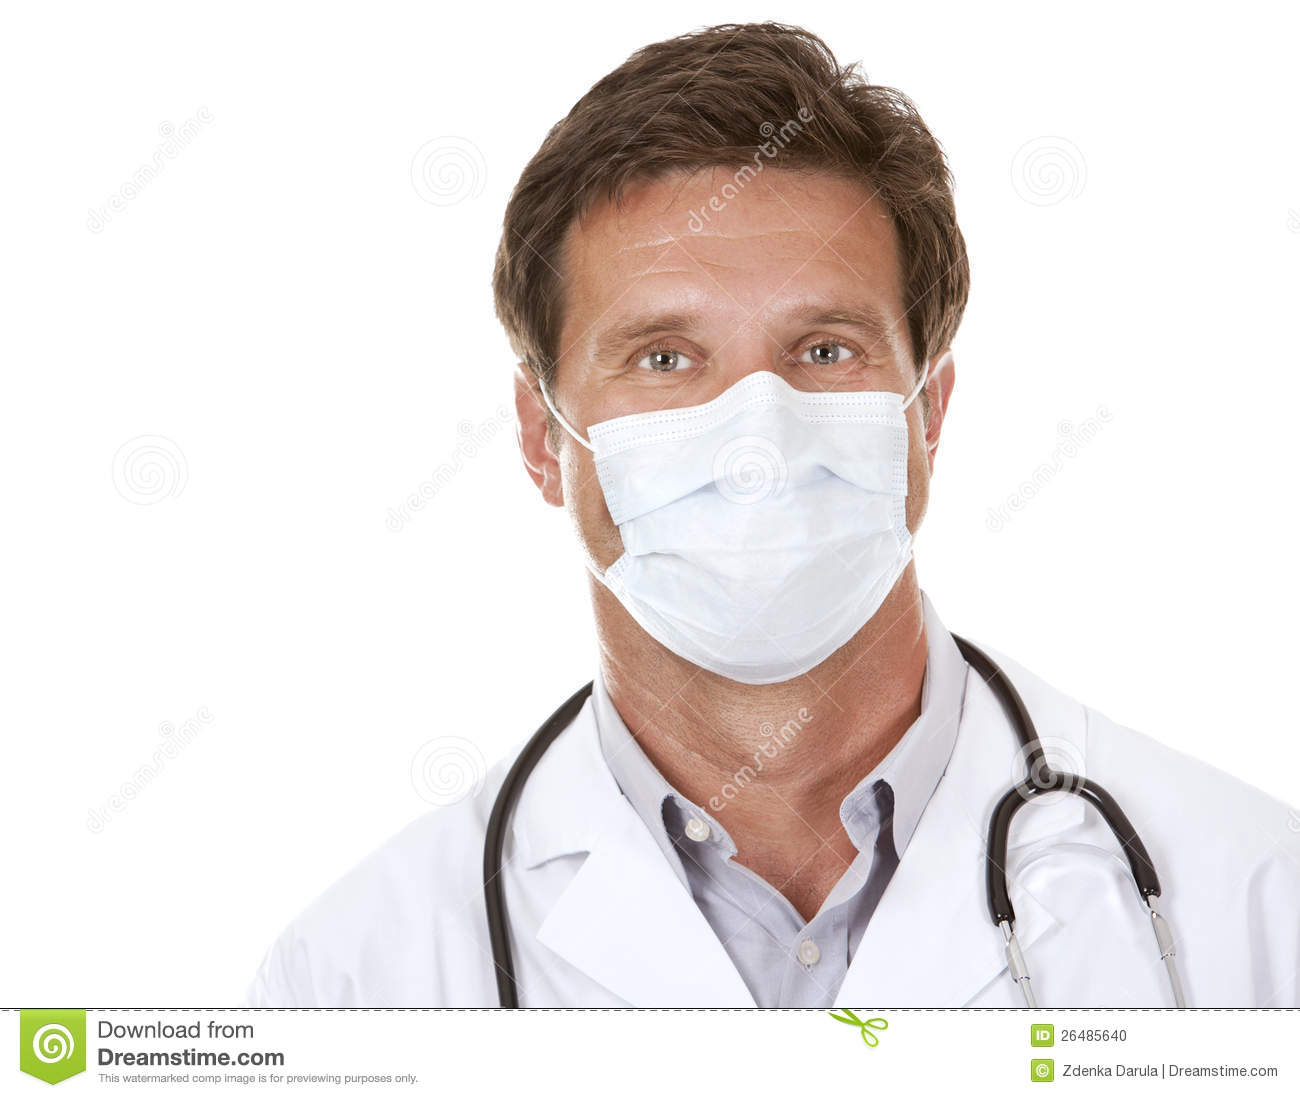mask: (572, 400, 925, 658)
